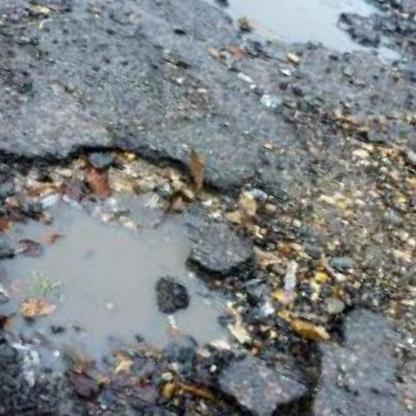pothole: (0, 72, 404, 416), (139, 0, 416, 105)
